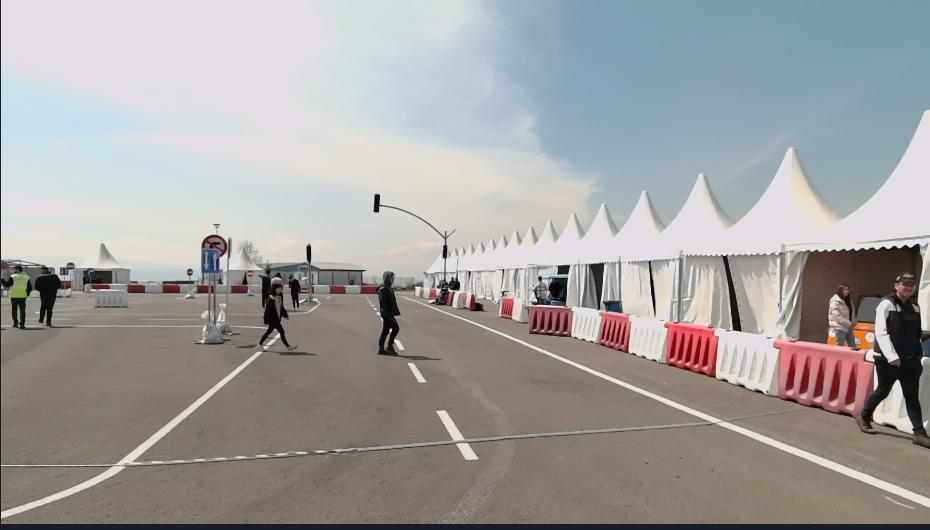nesne: (0, 292, 926, 528), (365, 293, 928, 524), (0, 295, 533, 529), (399, 291, 928, 507), (0, 347, 264, 518), (523, 306, 866, 422), (526, 304, 771, 395), (861, 273, 929, 446), (770, 337, 869, 417), (827, 279, 882, 345), (714, 330, 771, 390), (380, 206, 457, 244), (661, 320, 714, 372), (258, 284, 298, 350), (88, 281, 261, 295), (828, 282, 859, 355), (436, 406, 480, 456), (0, 264, 32, 328), (378, 271, 400, 355), (35, 264, 61, 328), (627, 315, 664, 359), (527, 303, 572, 333), (595, 312, 628, 348), (568, 309, 601, 344), (222, 237, 231, 335), (540, 274, 567, 306), (196, 310, 221, 344), (494, 296, 526, 321), (313, 283, 381, 294), (288, 296, 321, 315), (91, 289, 128, 305), (446, 290, 476, 309), (201, 233, 223, 256), (288, 273, 301, 311), (258, 269, 271, 306), (410, 283, 437, 300), (533, 274, 547, 304), (406, 360, 425, 381), (201, 248, 219, 270), (498, 298, 515, 318), (436, 278, 448, 304), (512, 298, 525, 320), (208, 270, 212, 335), (445, 291, 461, 307), (141, 283, 162, 294), (360, 283, 380, 294), (549, 278, 560, 298), (306, 262, 312, 298), (160, 282, 181, 292), (601, 299, 619, 310), (458, 291, 472, 305), (179, 282, 198, 292), (343, 283, 360, 294), (125, 283, 144, 292), (229, 283, 248, 292), (271, 272, 281, 289), (267, 335, 281, 347), (217, 301, 222, 334), (198, 282, 216, 291), (312, 283, 328, 293), (214, 284, 232, 292), (418, 285, 429, 298), (426, 287, 437, 300), (329, 284, 343, 294), (106, 283, 128, 289), (448, 275, 456, 291), (68, 267, 73, 292), (306, 243, 312, 262), (374, 193, 380, 212), (443, 256, 447, 283), (90, 282, 107, 288), (413, 285, 420, 298), (181, 292, 195, 298), (454, 277, 460, 290), (442, 242, 447, 257), (60, 267, 67, 276), (86, 267, 95, 274), (397, 340, 404, 349), (67, 261, 74, 269), (428, 297, 439, 302), (187, 268, 194, 275), (61, 276, 62, 295)
